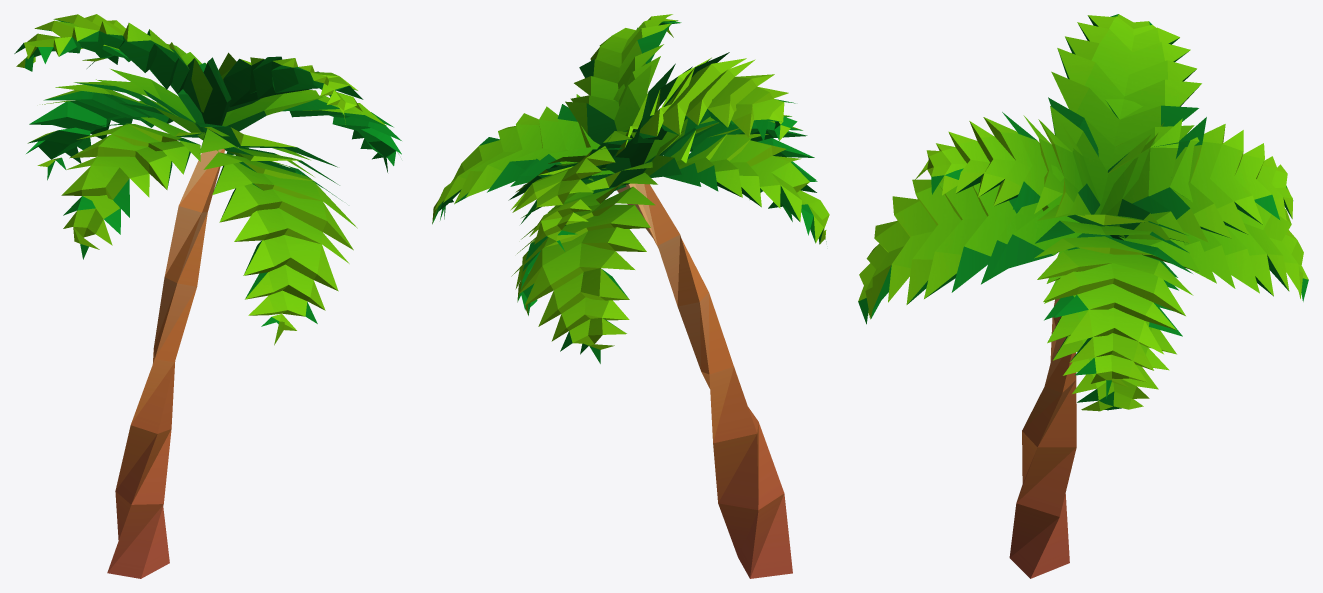
Rendered from GL-Palmtree-05-LOD2.fbx.
The picture shows the model from 3 angles, left to right: view 1: azimuth 30°, elevation 25°; view 2: azimuth 150°, elevation 25°; view 3: azimuth 270°, elevation 25°; orthographic projection. The views are drawn at different scales.
Visible parts, largest first — view 1: GL_Palmtree_05; view 2: GL_Palmtree_05; view 3: GL_Palmtree_05.
Boxes of the visible parts, x1,y1,x2,y2 form: GL_Palmtree_05: (14,14,401,578); GL_Palmtree_05: (432,14,829,578); GL_Palmtree_05: (858,14,1308,578).
Bounding box in the file's own units: 2.4 × 3.35 × 2.55.
